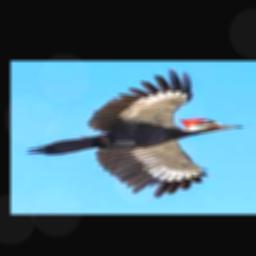Woodpecker: (26, 67, 244, 198)
